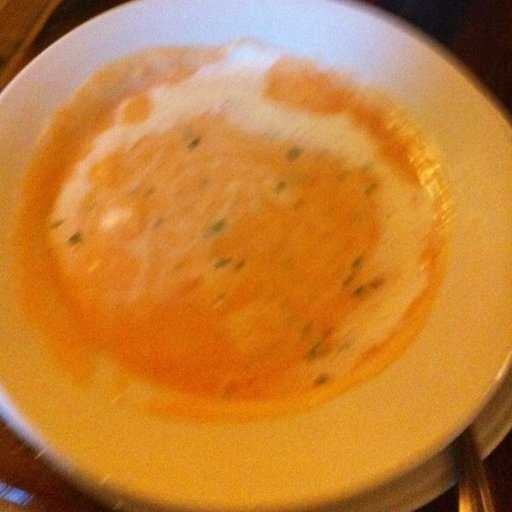soup: (24, 62, 448, 420)
